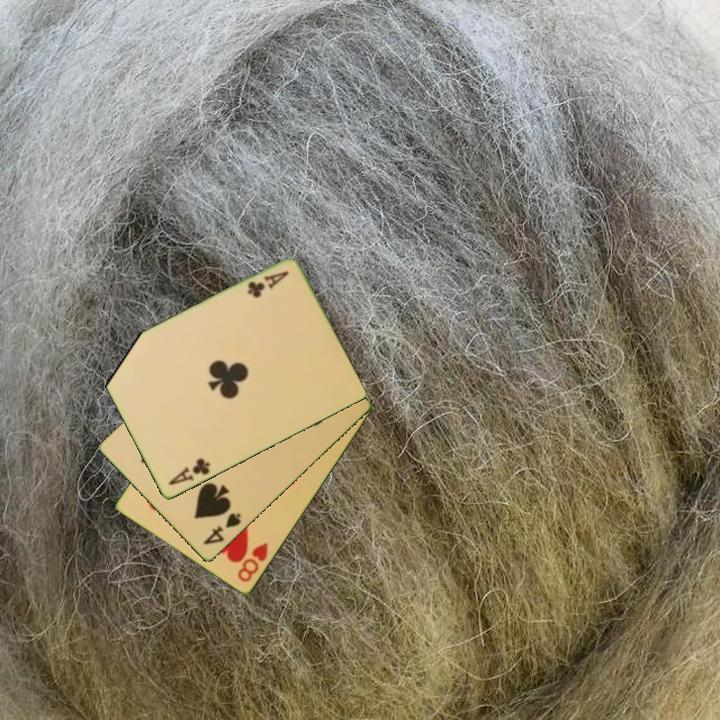4s: (199, 510, 244, 548)
8h: (234, 539, 271, 585)
Ac: (164, 455, 213, 489), (244, 268, 291, 301)
